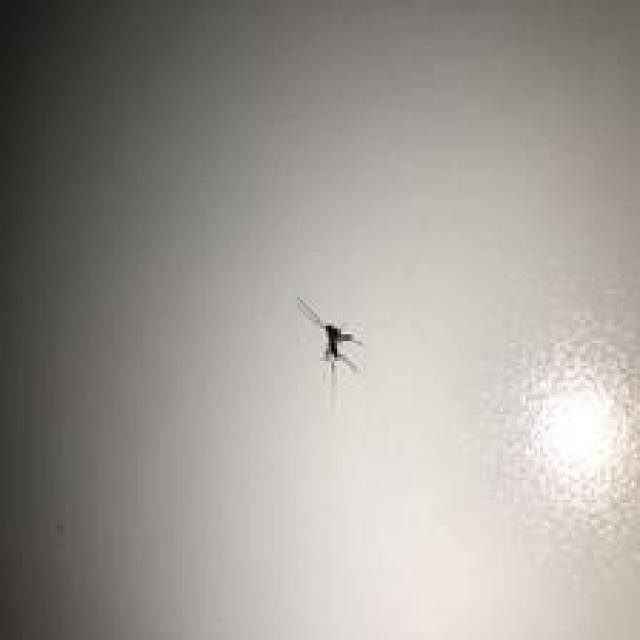Aedes albopictus: (296, 296, 364, 376)
